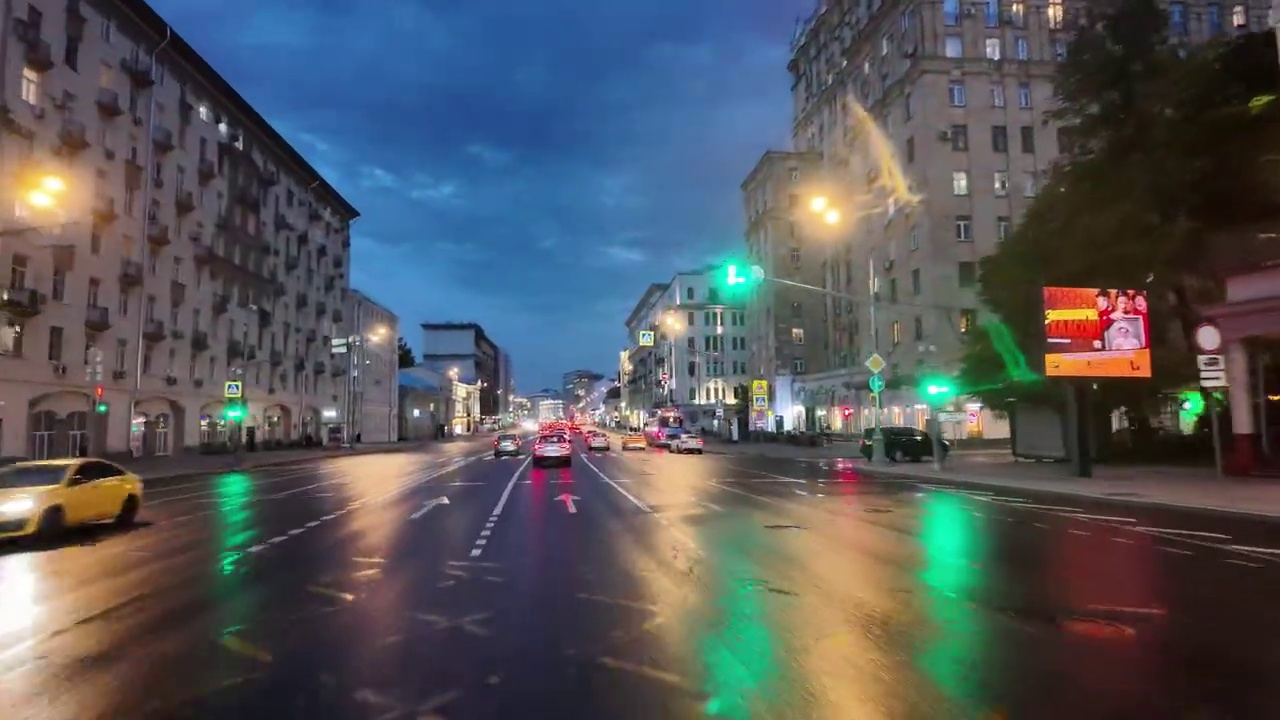acesa: (17, 171, 71, 218), (800, 189, 847, 234), (660, 311, 688, 336), (366, 321, 392, 345)
